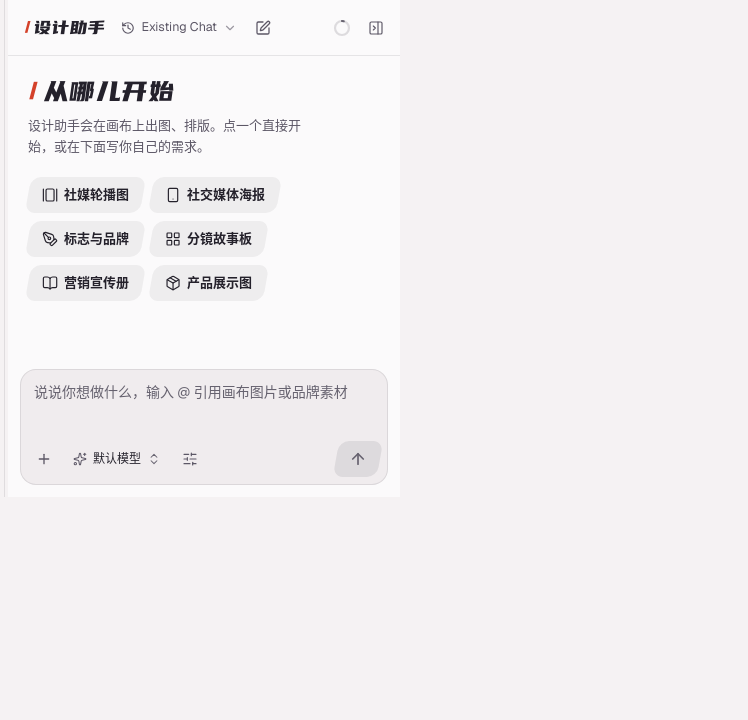
Test: ChatSidebar › shows how full the context is and follows the run's updates (第 70 条)
Expected: the button named "上下文约 1k / 100k" is shown, [326,12,358,44]
Type "继续" into the text box with placeholder "说说你想做什么，输入 @ 引用画布图片或品牌素材".
click(204, 401); type("继续")  # box [28,377,380,425]
Then press Enter
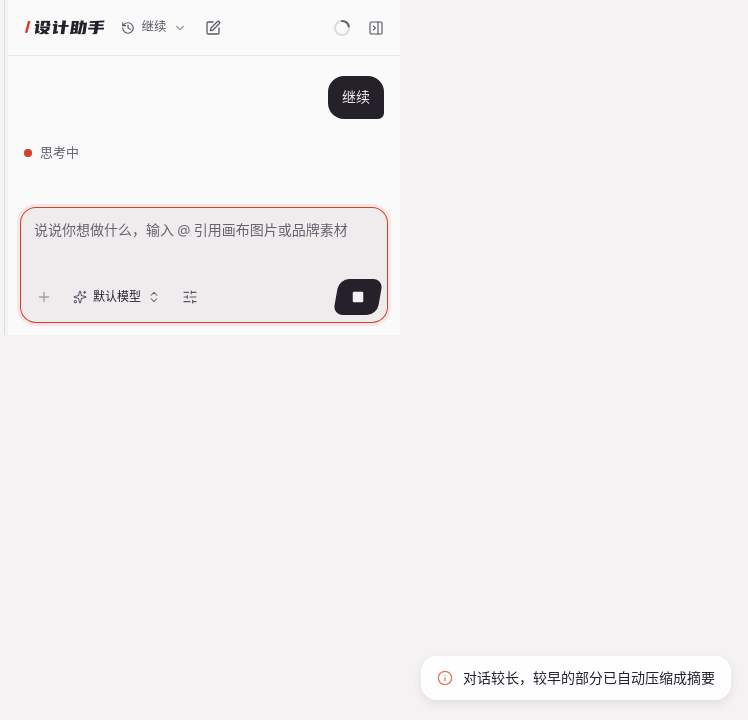
Expected: the button named "上下文约 82k / 100k（82%）" is shown, [326,12,358,44]
Expected: the text "对话较长，较早的部分已自动压缩成摘要" is shown, [463,668,715,688]
